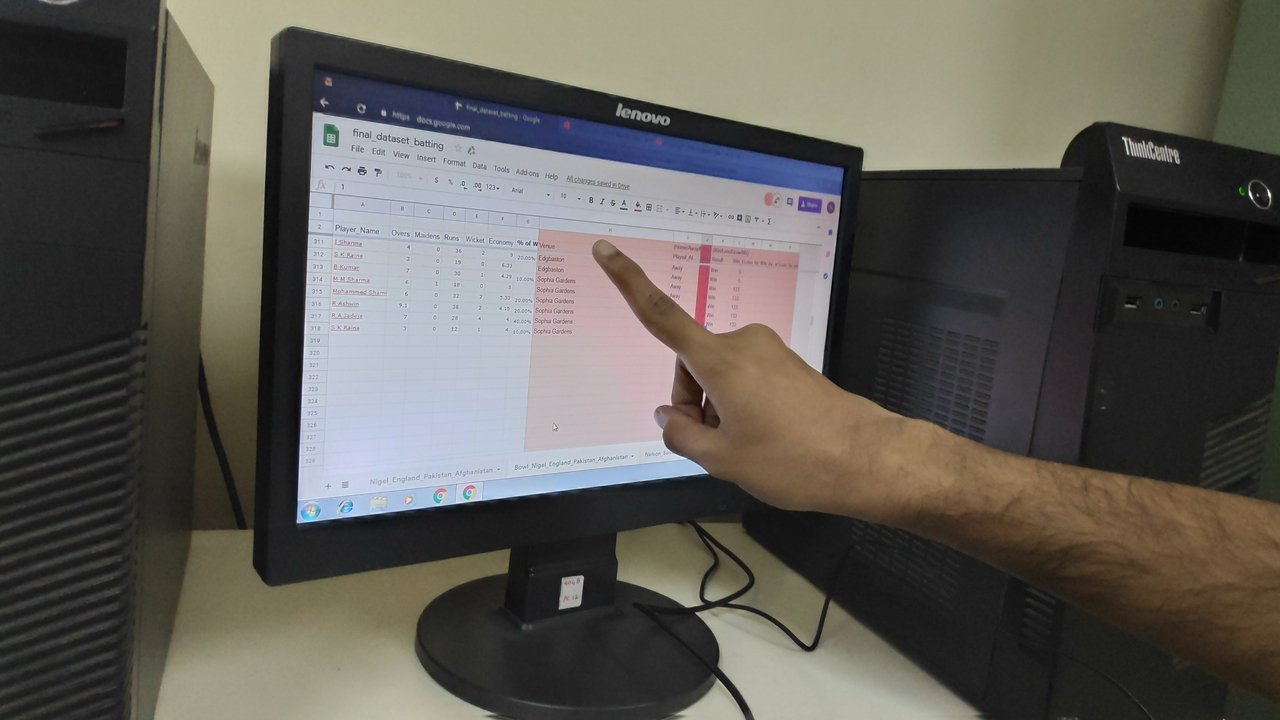fingertip: (578, 230, 646, 282)
